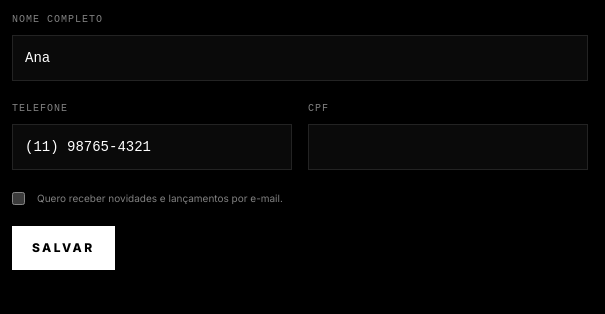
Scenario: ProfileForm › CPF inválido mostra erro no campo e não envia
In the field labelled "CPF": {"x": 448, "y": 147} [308,124,588,170], type "123"
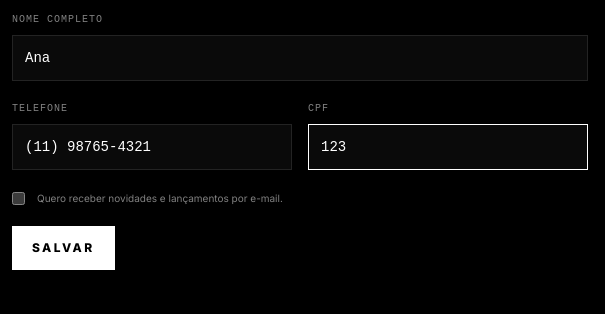
Click the button "Salvar": {"x": 63, "y": 248} [12,226,114,270]
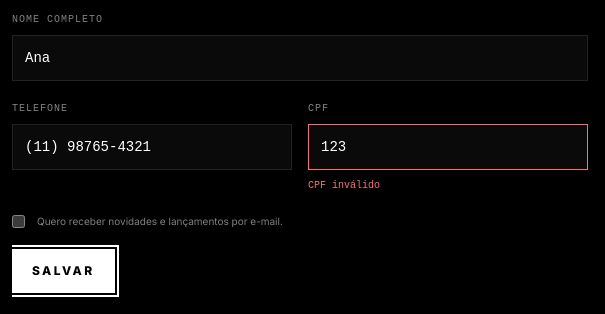
Result: the text "CPF inválido" is shown at [308,180,380,191]
